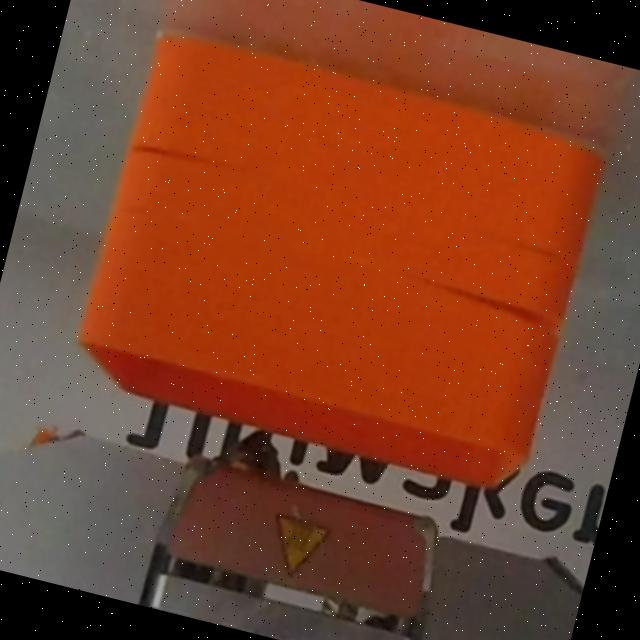cracks: (402, 258, 598, 382), (86, 104, 256, 202)
